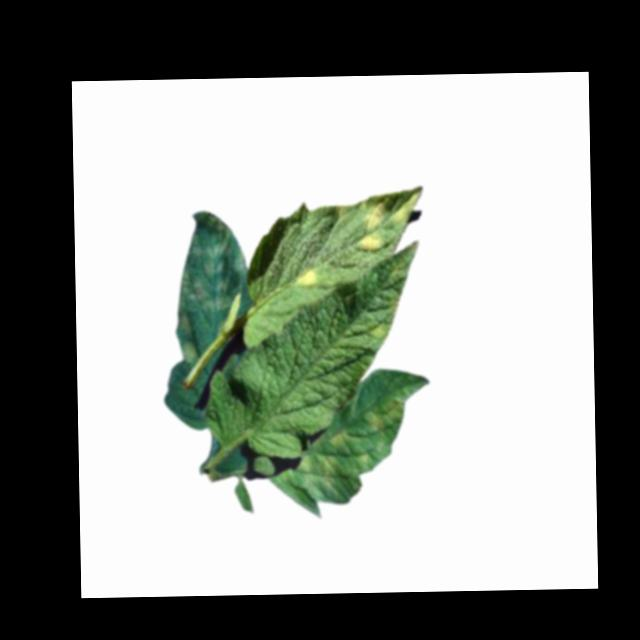Leaf_Mold: (277, 393, 412, 501), (172, 209, 249, 363), (352, 184, 423, 254), (357, 314, 389, 342), (291, 268, 318, 292)
